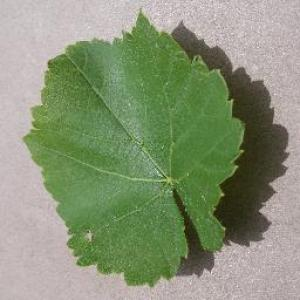Folha: (21, 6, 245, 287)
